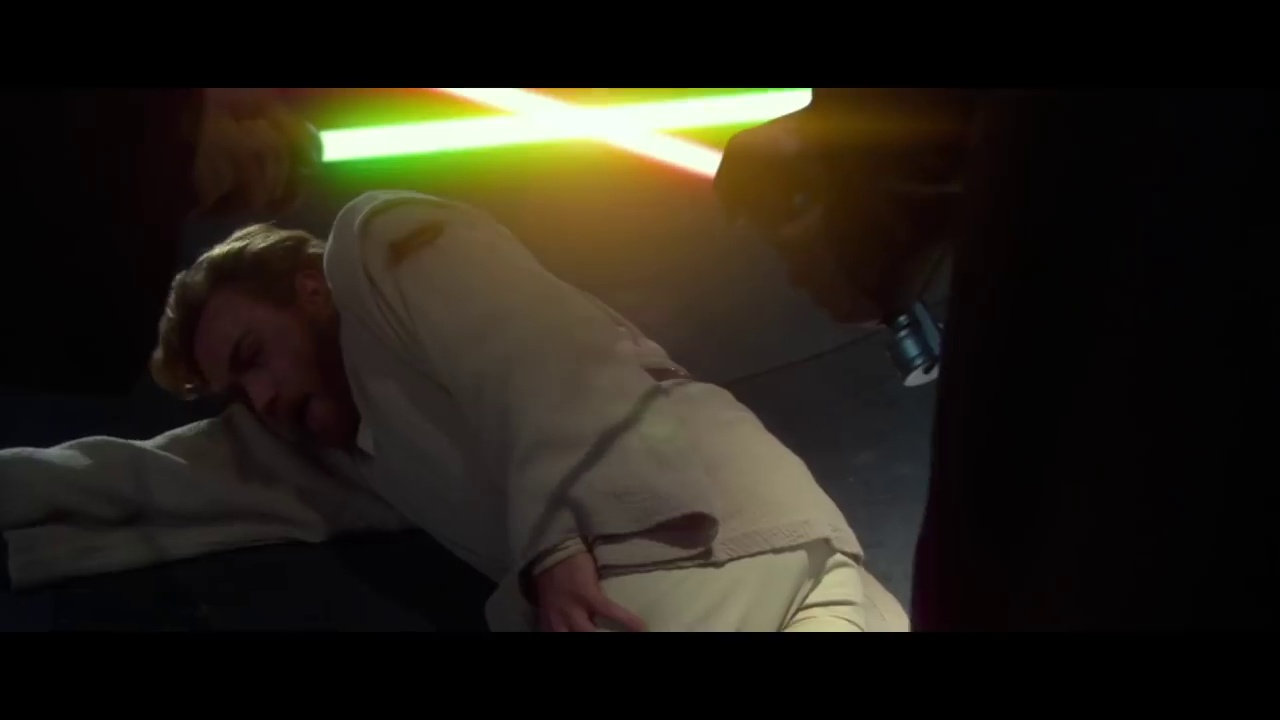lightsaber: (312, 79, 840, 164)
